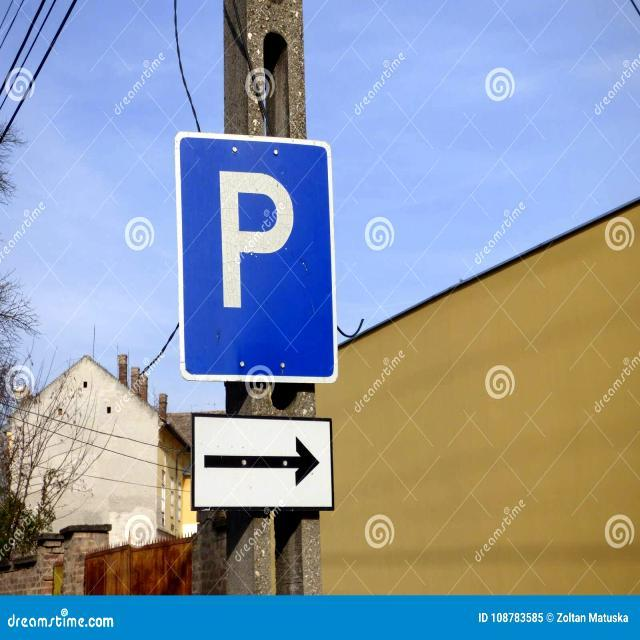Traffic sign: (164, 122, 340, 514)
